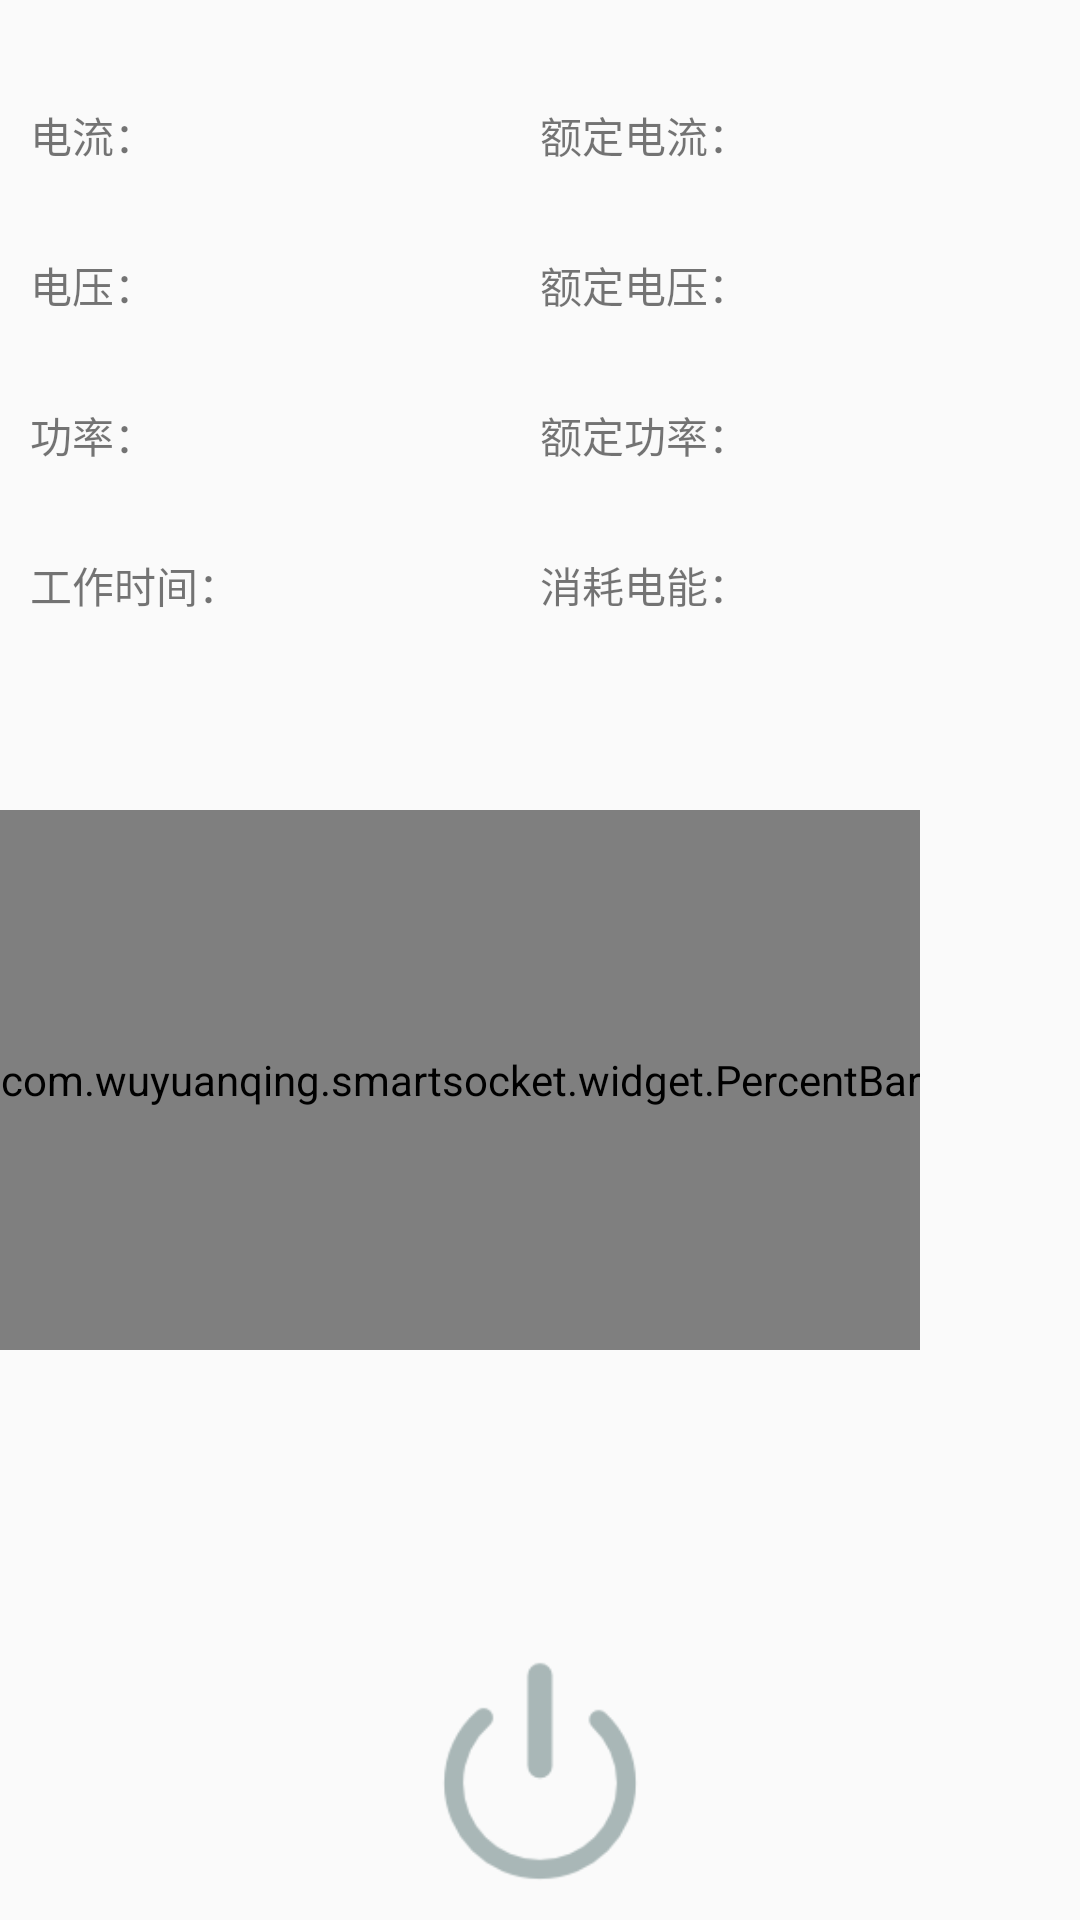

Where icons sit on this 1080w x 1920h app screen, as (x1, y1, x2, y2):
toggle: (444, 1663, 636, 1879)
